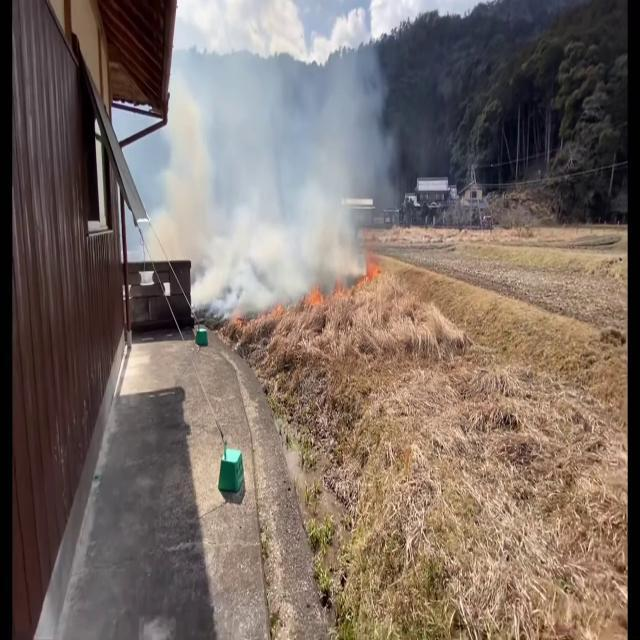Smoke: (158, 6, 406, 345)
